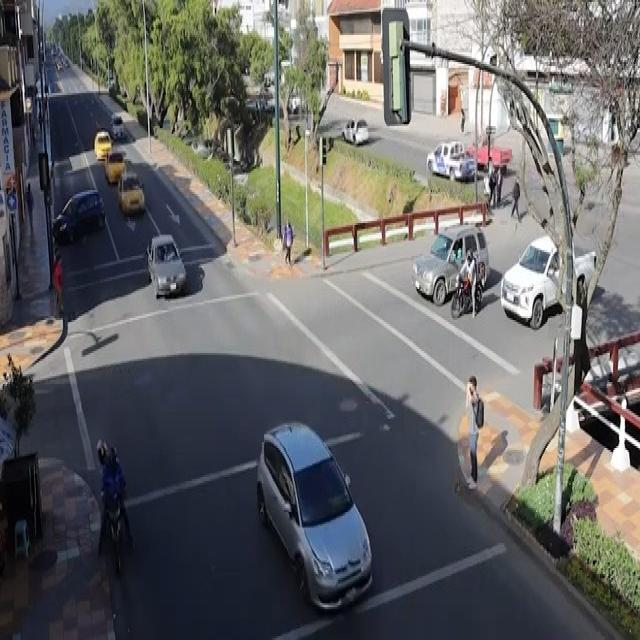CMT: (430, 145, 476, 183)
